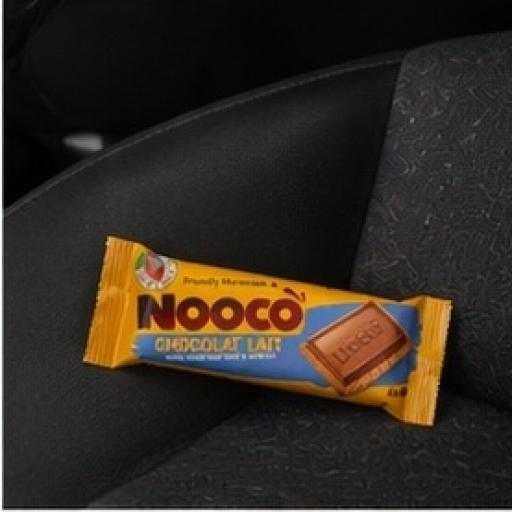nooco: (91, 199, 454, 448)
